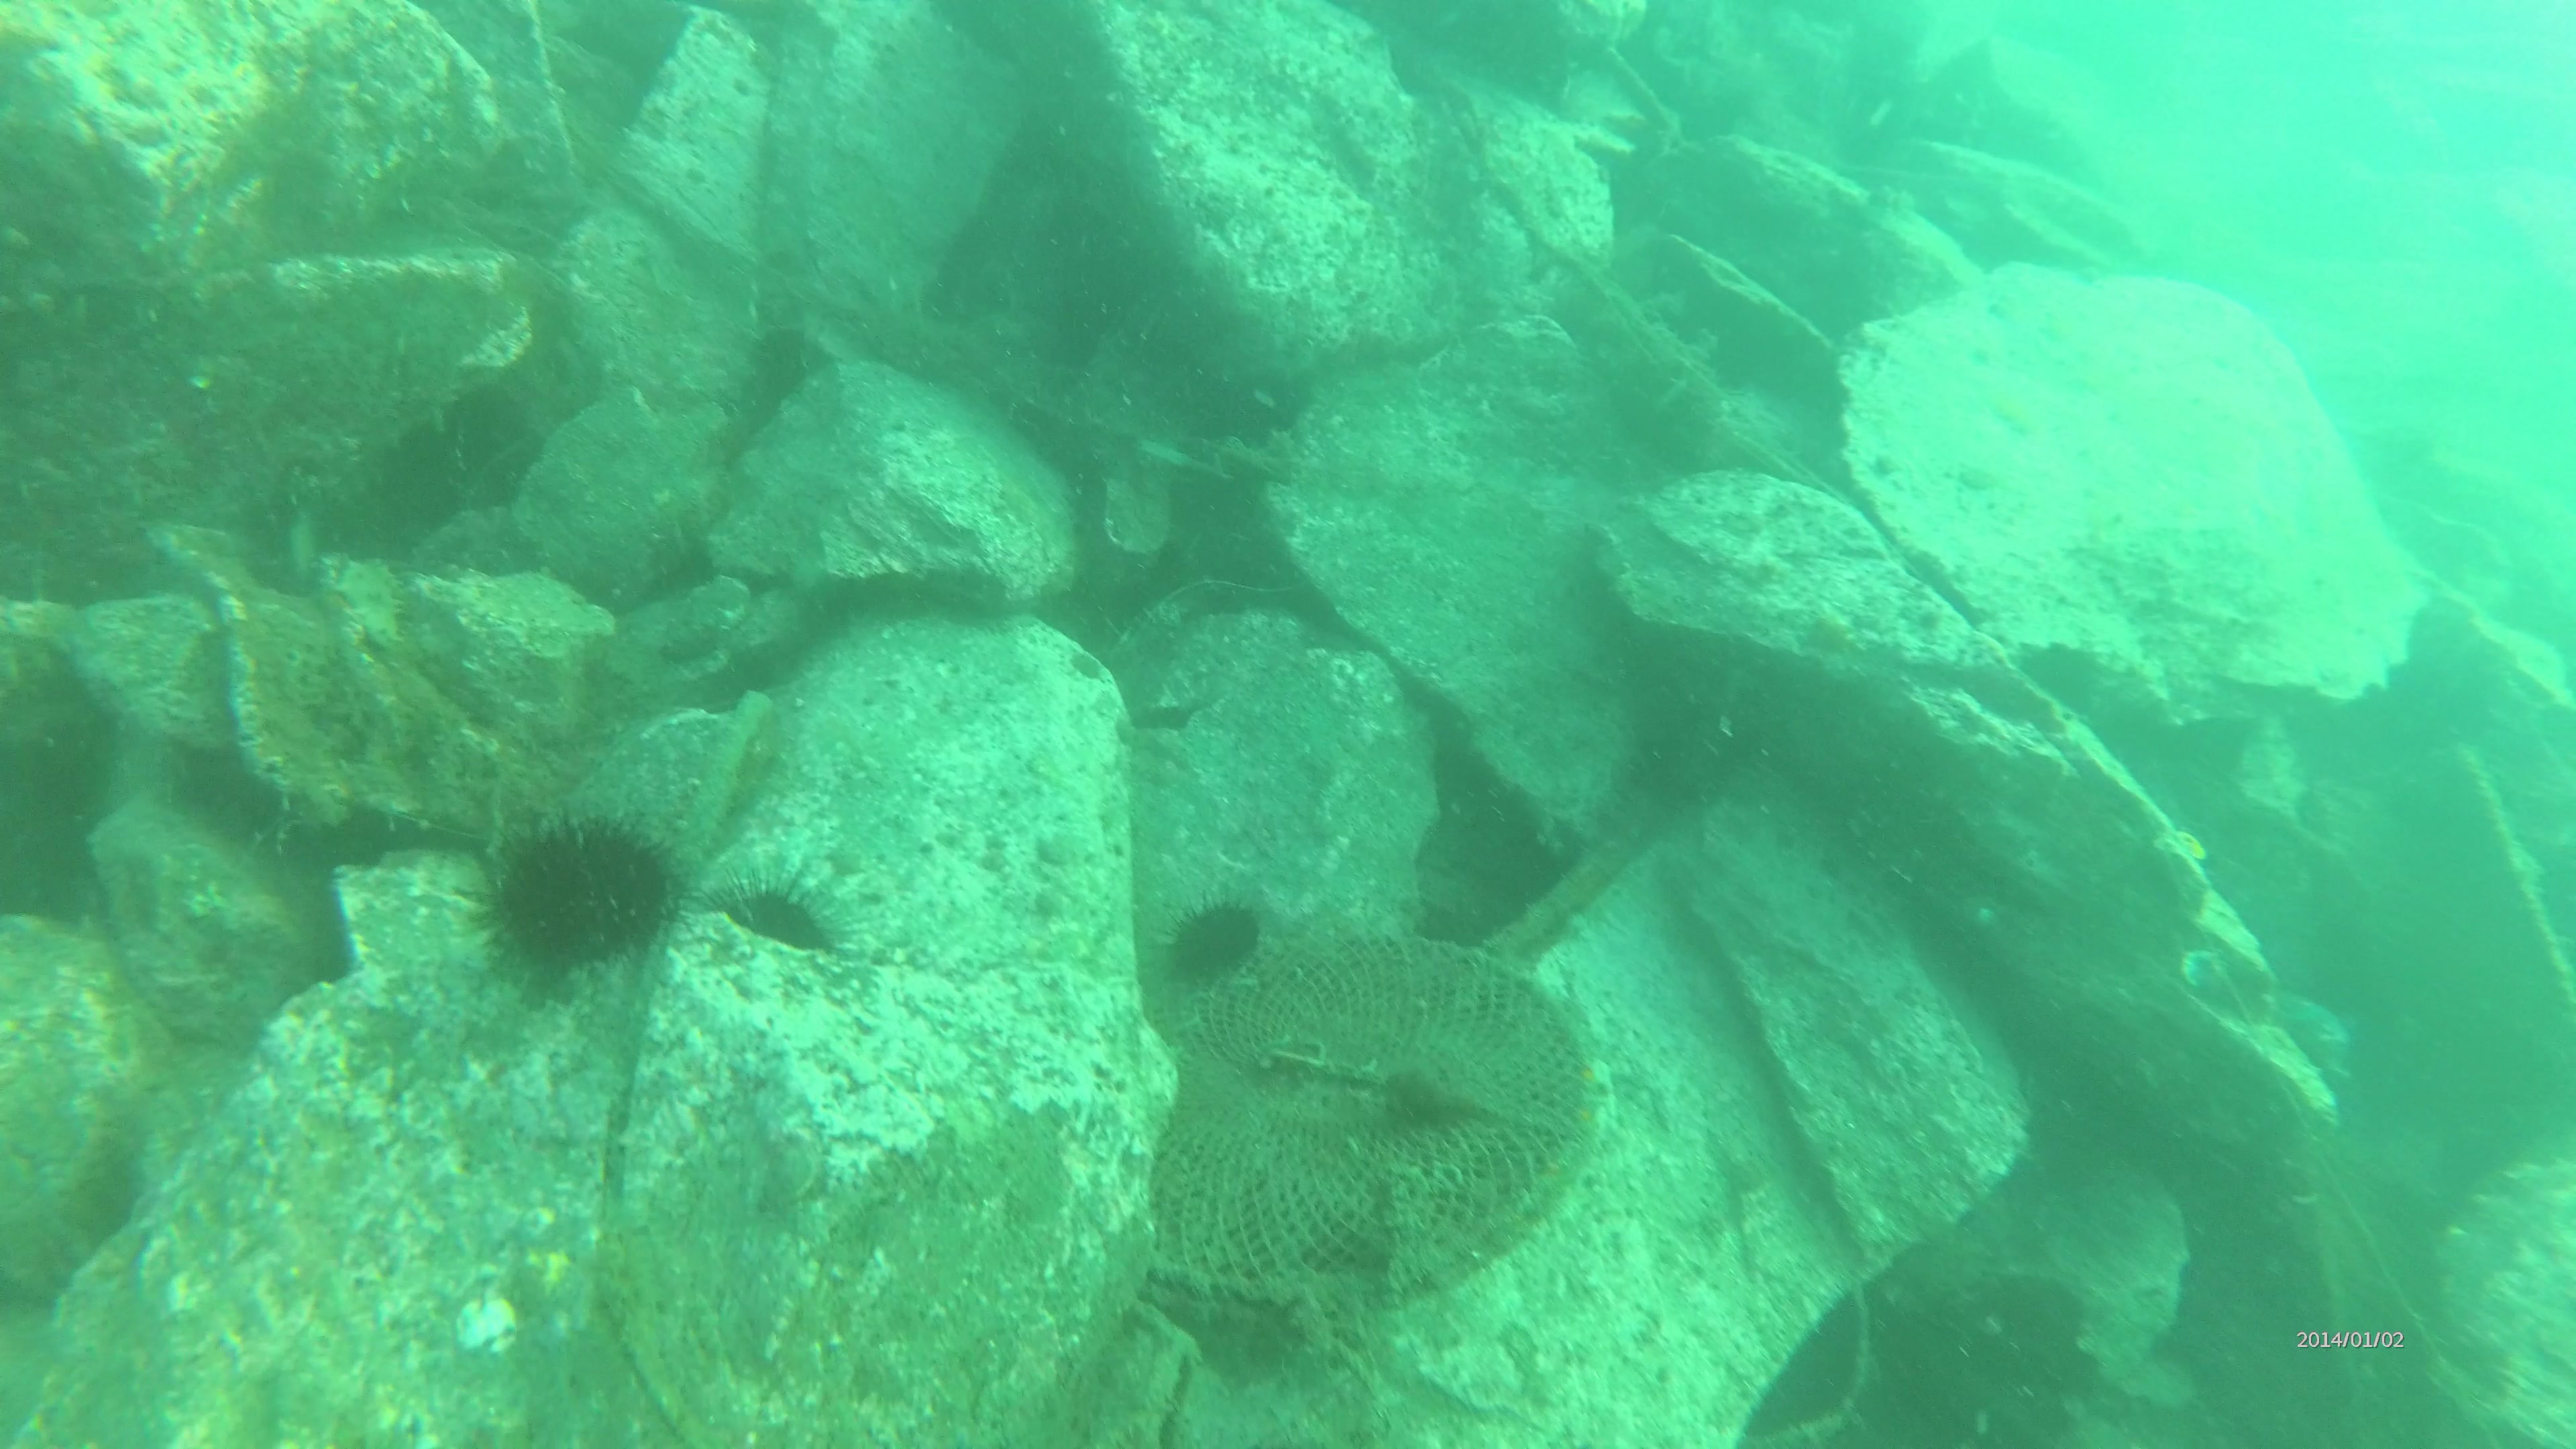echinus: (458, 800, 667, 980), (708, 862, 853, 968), (1157, 879, 1274, 993)
